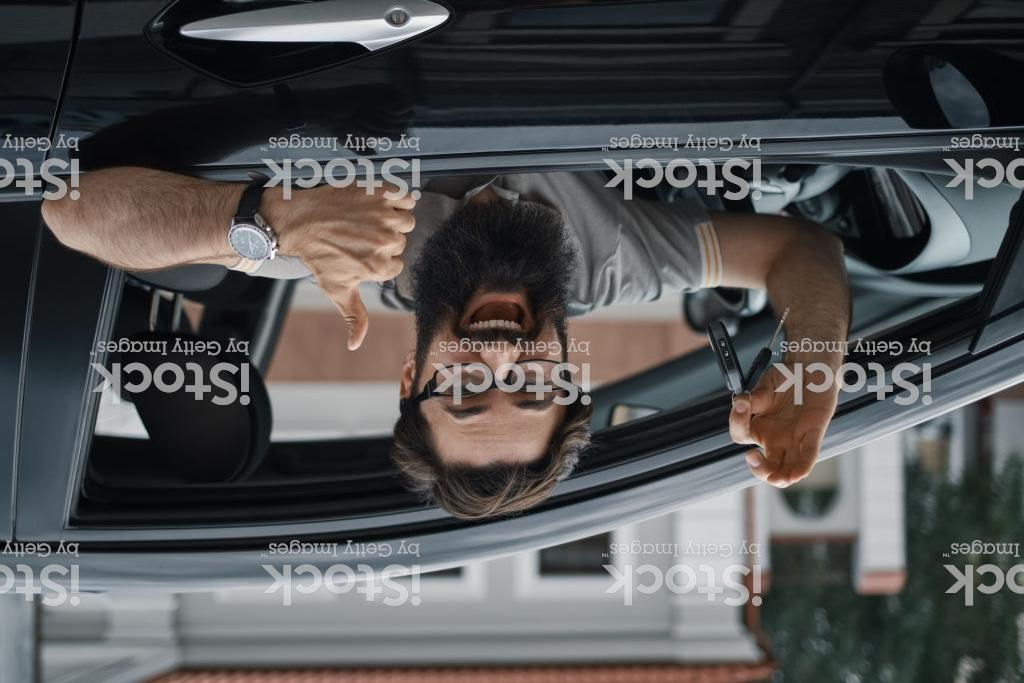thumbsdown: (312, 182, 417, 357)
